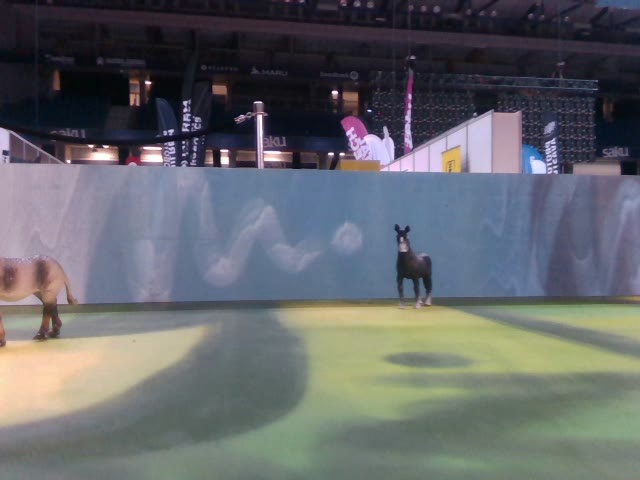toy: (393, 222, 433, 311)
